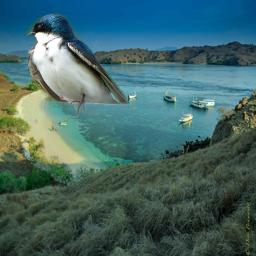Swallow: (25, 12, 130, 119)
